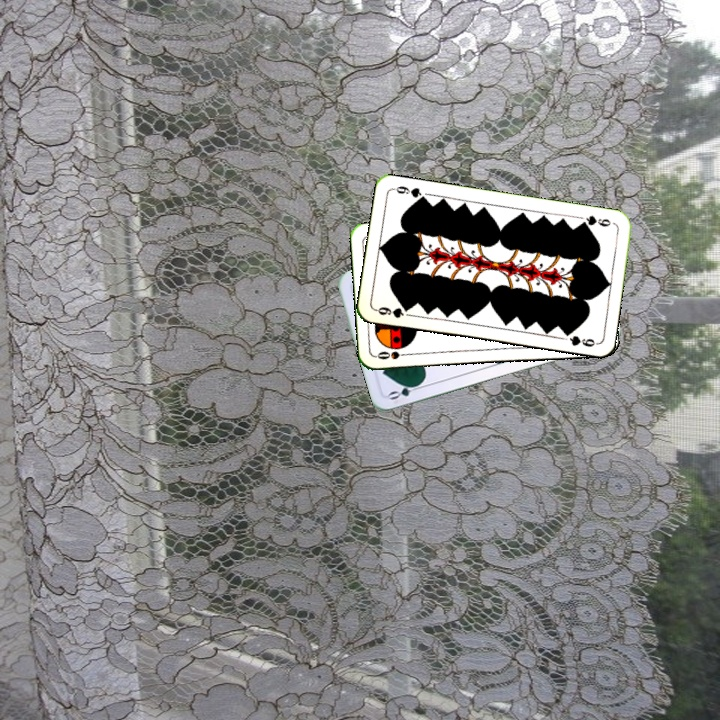G9: (371, 302, 413, 320), (576, 211, 613, 229)
GO: (385, 379, 425, 403)
SO: (373, 347, 414, 362)
